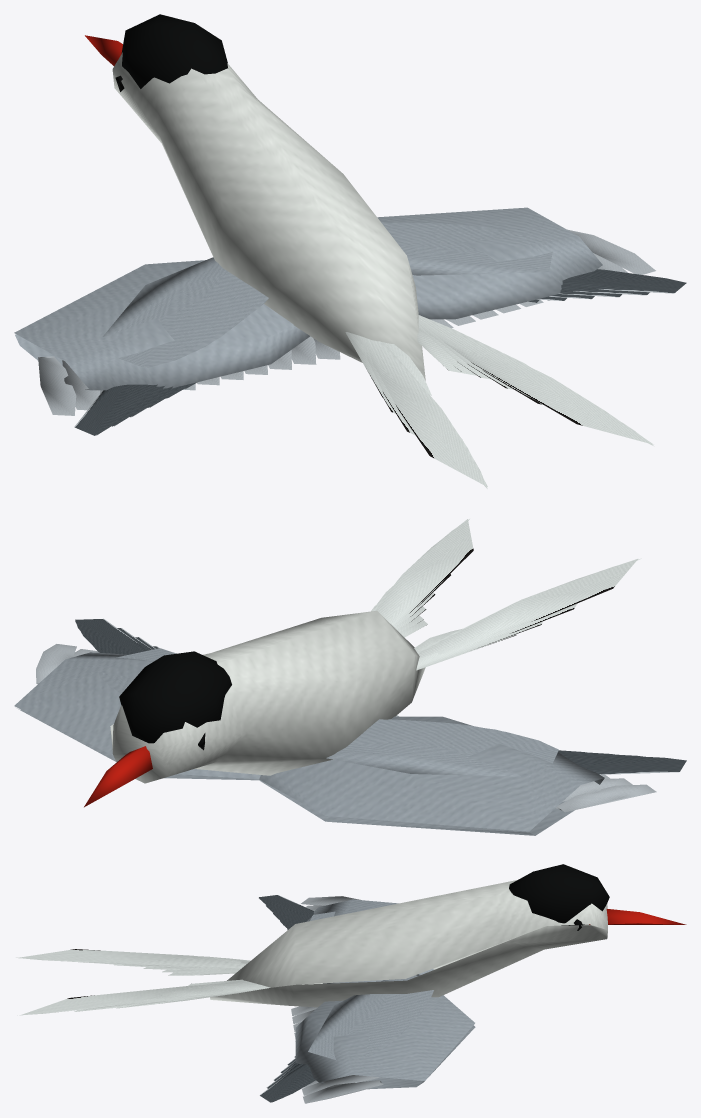
Rendered from arctic_tern_far.glb.
3 renders of one model, top to bottom at view 1: azimuth 30°, elevation 25°; view 2: azimuth 150°, elevation 25°; view 3: azimuth 270°, elevation 25°, orthographic. The views are drawn at different scales.
Visible parts, largest first — view 1: CoastalGullMesh.001; view 2: CoastalGullMesh.001; view 3: CoastalGullMesh.001.
Part boxes in pixels (x1,y1,x2,y2): CoastalGullMesh.001: [14, 14, 686, 488]; CoastalGullMesh.001: [14, 519, 686, 835]; CoastalGullMesh.001: [16, 864, 686, 1103].
Size of the model in its own units: 0.4024 by 0.1293 by 0.5509.
Materials: 1 (1 with a texture image).
